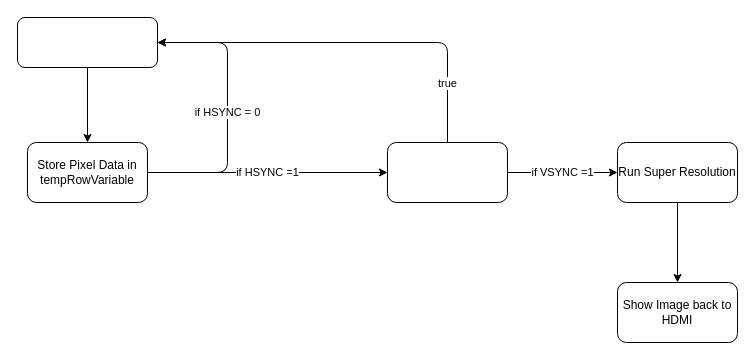
Image size: 755x360. Some labels were removed from this diagram. The shapes that lost their labels are listed below. From the top down, each one's box as (x1, y1, x2, y2) in pixels, then its label:
(16, 16, 158, 68): Get Pixel Information
(386, 142, 508, 202): Save Row Data in Frame
